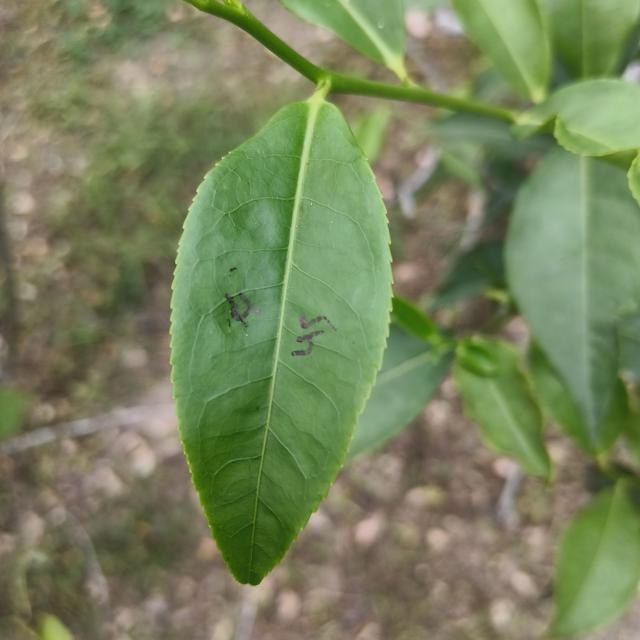Leaf: (171, 87, 392, 584), (505, 147, 640, 443), (345, 325, 453, 463), (547, 480, 640, 637), (454, 335, 551, 479), (279, 0, 408, 82), (451, 0, 552, 103), (513, 79, 640, 156), (542, 0, 640, 79)
